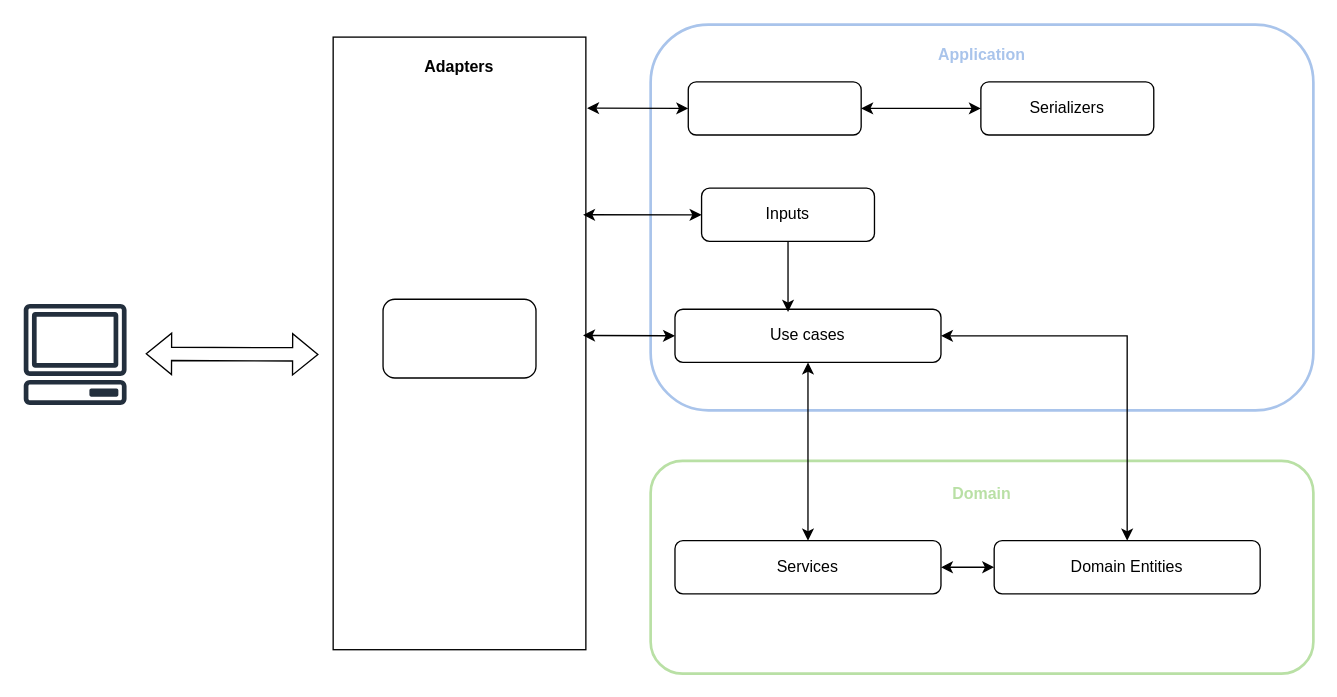
Some shapes in this 1337 by 697 pixel diagram are drawn without their labels. Each missing label, with the centre of its shape:
"main.rb" belongs at point 459,338.
"Transformers" belongs at point 774,107.
